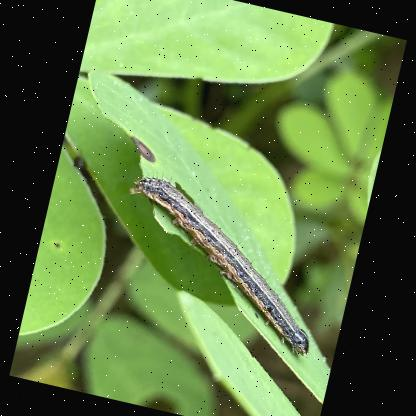Fall Armyworm Larvae: (98, 162, 346, 363)
